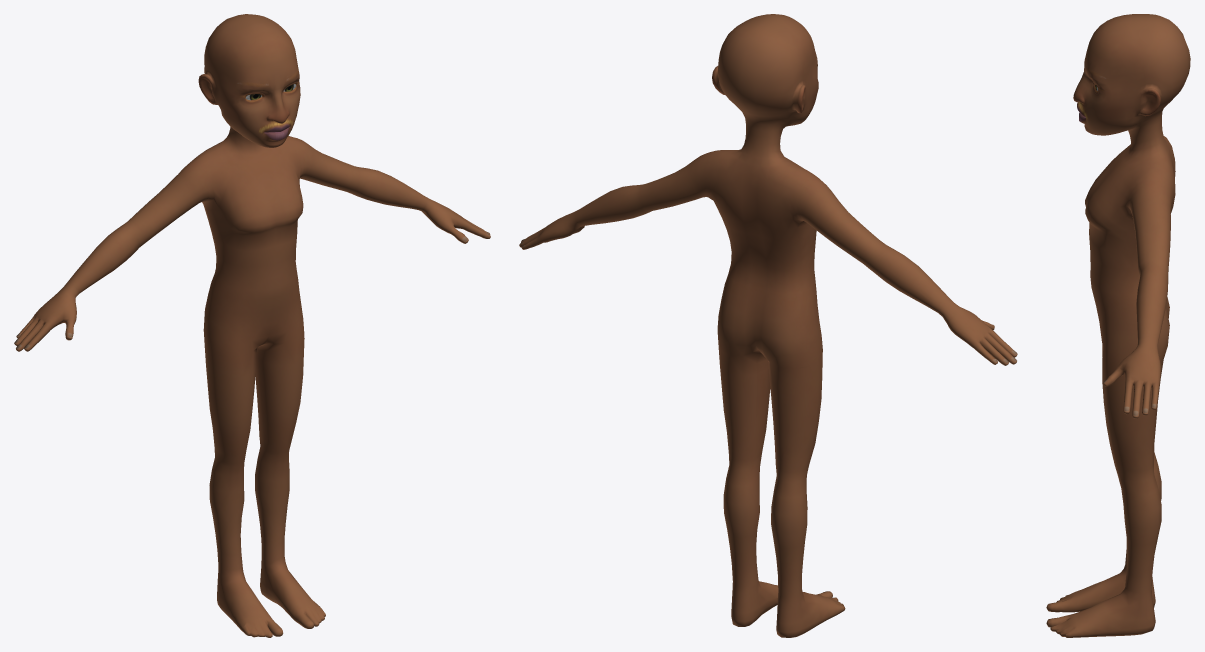
Rendered from frame_0088.glb.
3 views of the same model, side by side, from view 1: azimuth 30°, elevation 25°; view 2: azimuth 150°, elevation 25°; view 3: azimuth 270°, elevation 25° (orthographic). The views are drawn at different scales.
Parts seen in each view (by area): view 1: frame_0088_head_geo; view 2: frame_0088_head_geo; view 3: frame_0088_head_geo.
Boxes of the visible parts, x1,y1,x2,y2 form: frame_0088_head_geo: (14,14,490,637); frame_0088_head_geo: (519,14,1017,637); frame_0088_head_geo: (1046,14,1190,637).
Size of the model in its own units: 1.28 by 1.5 by 0.3253.
3 materials, 3 textured.
